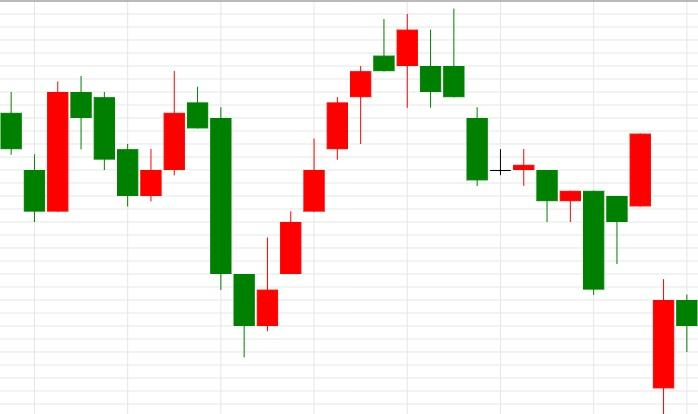shooting_star_fall: (256, 19, 396, 332)
three_white_soldiers_rise: (187, 86, 326, 358)
